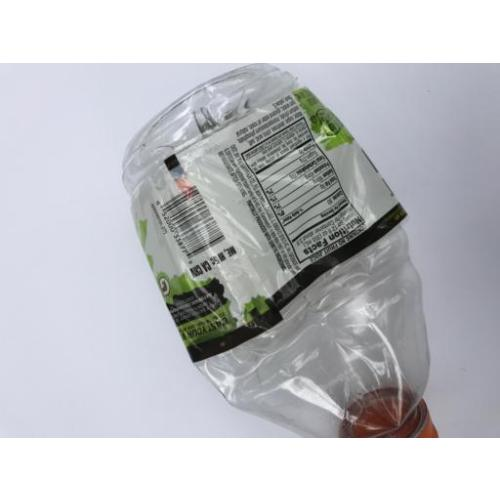plastic: (120, 62, 440, 434)
